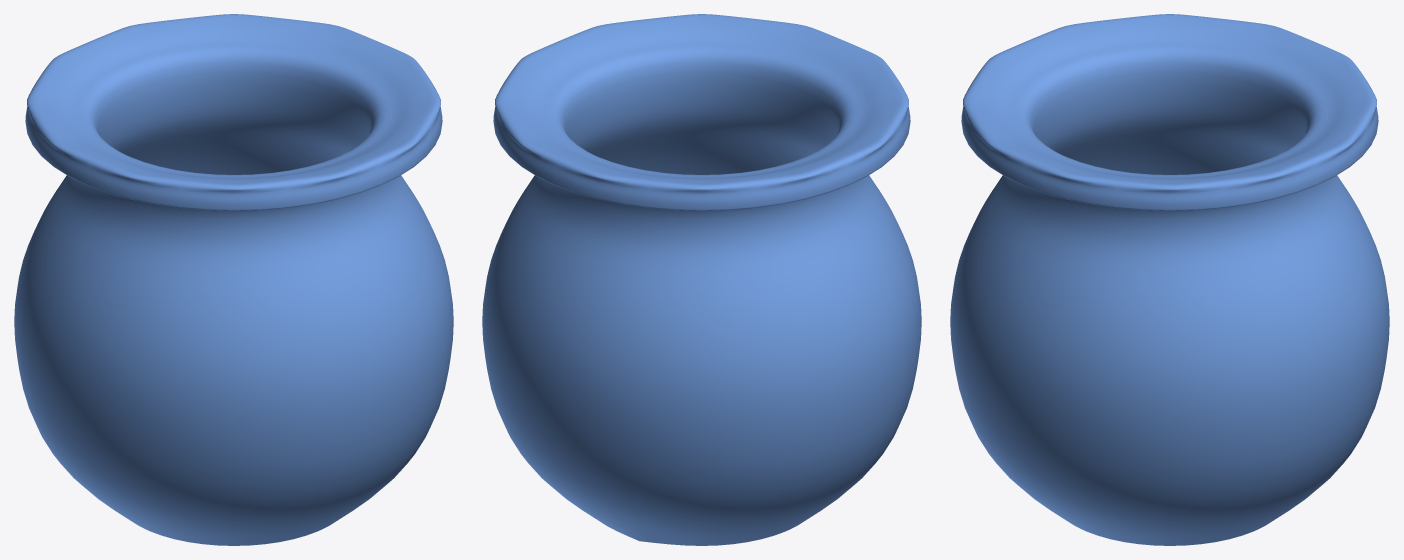
File: vase.fbx
The picture shows the model from 3 angles, left to right: view 1: azimuth 30°, elevation 25°; view 2: azimuth 150°, elevation 25°; view 3: azimuth 270°, elevation 25°; orthographic projection.
Parts seen in each view (by area): view 1: Plane; view 2: Plane; view 3: Plane.
Part boxes in pixels (<box>): Plane: <box>14,14,453,545</box>; Plane: <box>482,14,921,545</box>; Plane: <box>950,14,1389,545</box>.
Size of the model in its own units: 342 by 340 by 342.
